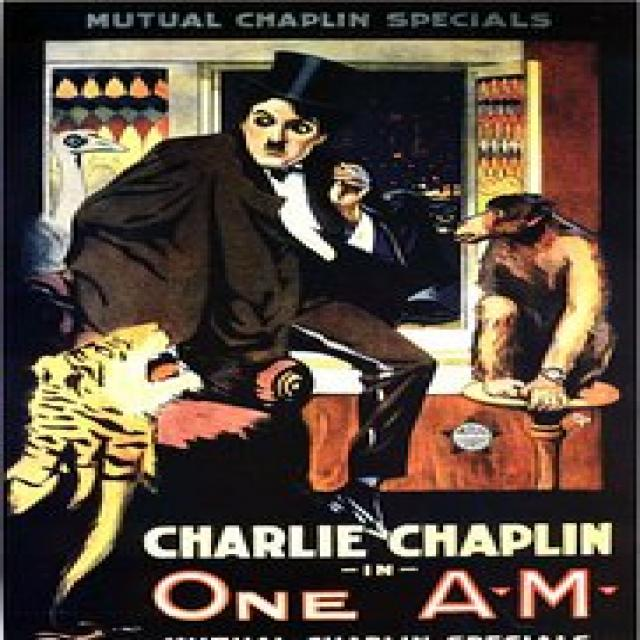movie-judul: (146, 515, 634, 634)
picture: (18, 49, 616, 506)
